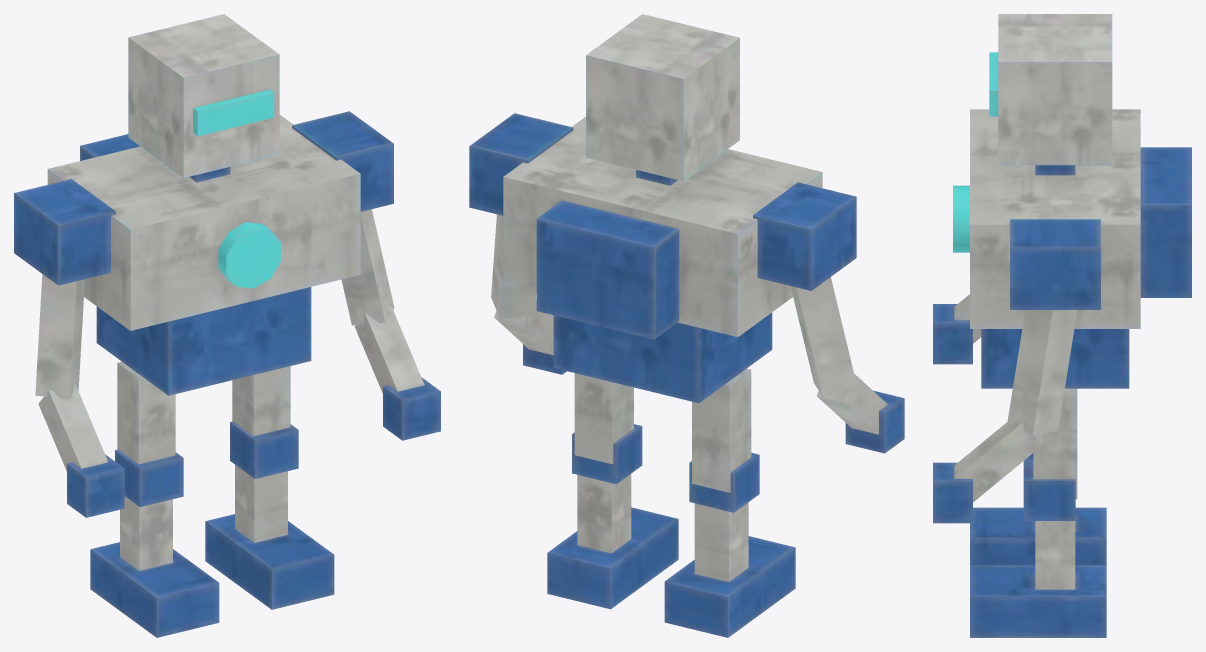
The model's file is robot_t4.glb.
The picture shows the model from 3 angles, left to right: view 1: azimuth 30°, elevation 25°; view 2: azimuth 150°, elevation 25°; view 3: azimuth 270°, elevation 25°; orthographic projection. The views are drawn at different scales.
Parts seen in each view (by area): view 1: te_res_robot_t4; view 2: te_res_robot_t4; view 3: te_res_robot_t4.
Boxes of the visible parts, <box> form: te_res_robot_t4: <box>14,14,440,637</box>; te_res_robot_t4: <box>469,14,904,637</box>; te_res_robot_t4: <box>933,14,1191,637</box>.
Bounding box in the file's own units: 0.3747 × 0.5384 × 0.2275.
Materials: 1 (1 with a texture image).
